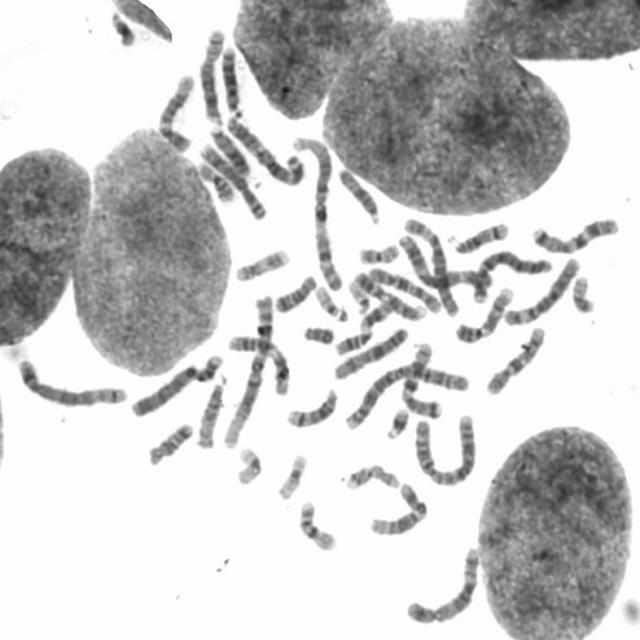A1: (217, 287, 277, 451), (286, 128, 344, 293)
A2: (338, 356, 471, 432), (407, 405, 481, 488)
A3: (220, 108, 308, 187), (394, 226, 495, 294)
B4: (126, 346, 227, 419), (466, 242, 554, 304)
B5: (400, 540, 482, 626), (10, 351, 128, 408)
C10: (479, 319, 548, 397), (362, 261, 444, 314)
C11: (222, 327, 292, 397), (328, 295, 394, 356)
C12: (150, 66, 198, 154), (363, 475, 431, 537)
C6: (398, 212, 462, 318), (498, 250, 582, 327)
C7: (526, 210, 621, 254), (398, 336, 445, 419)
C8: (193, 137, 269, 222), (193, 21, 228, 126)
C9: (348, 264, 430, 322), (450, 280, 516, 344)
D13: (204, 120, 252, 178), (215, 39, 243, 115)
D14: (280, 381, 340, 429), (447, 214, 511, 255)
D15: (333, 161, 383, 225), (192, 371, 229, 450)
E16: (293, 494, 340, 553), (192, 156, 238, 204)
E17: (229, 240, 292, 283), (340, 456, 402, 492)
E18: (142, 415, 195, 467), (270, 268, 318, 314)
F19: (272, 447, 309, 501), (230, 439, 264, 486)
F20: (352, 237, 402, 265), (567, 268, 597, 314)
G21: (104, 3, 138, 48), (379, 401, 412, 442)
G22: (309, 279, 350, 322), (343, 274, 371, 316)
X: (328, 319, 412, 382)
Y: (297, 319, 336, 345)
